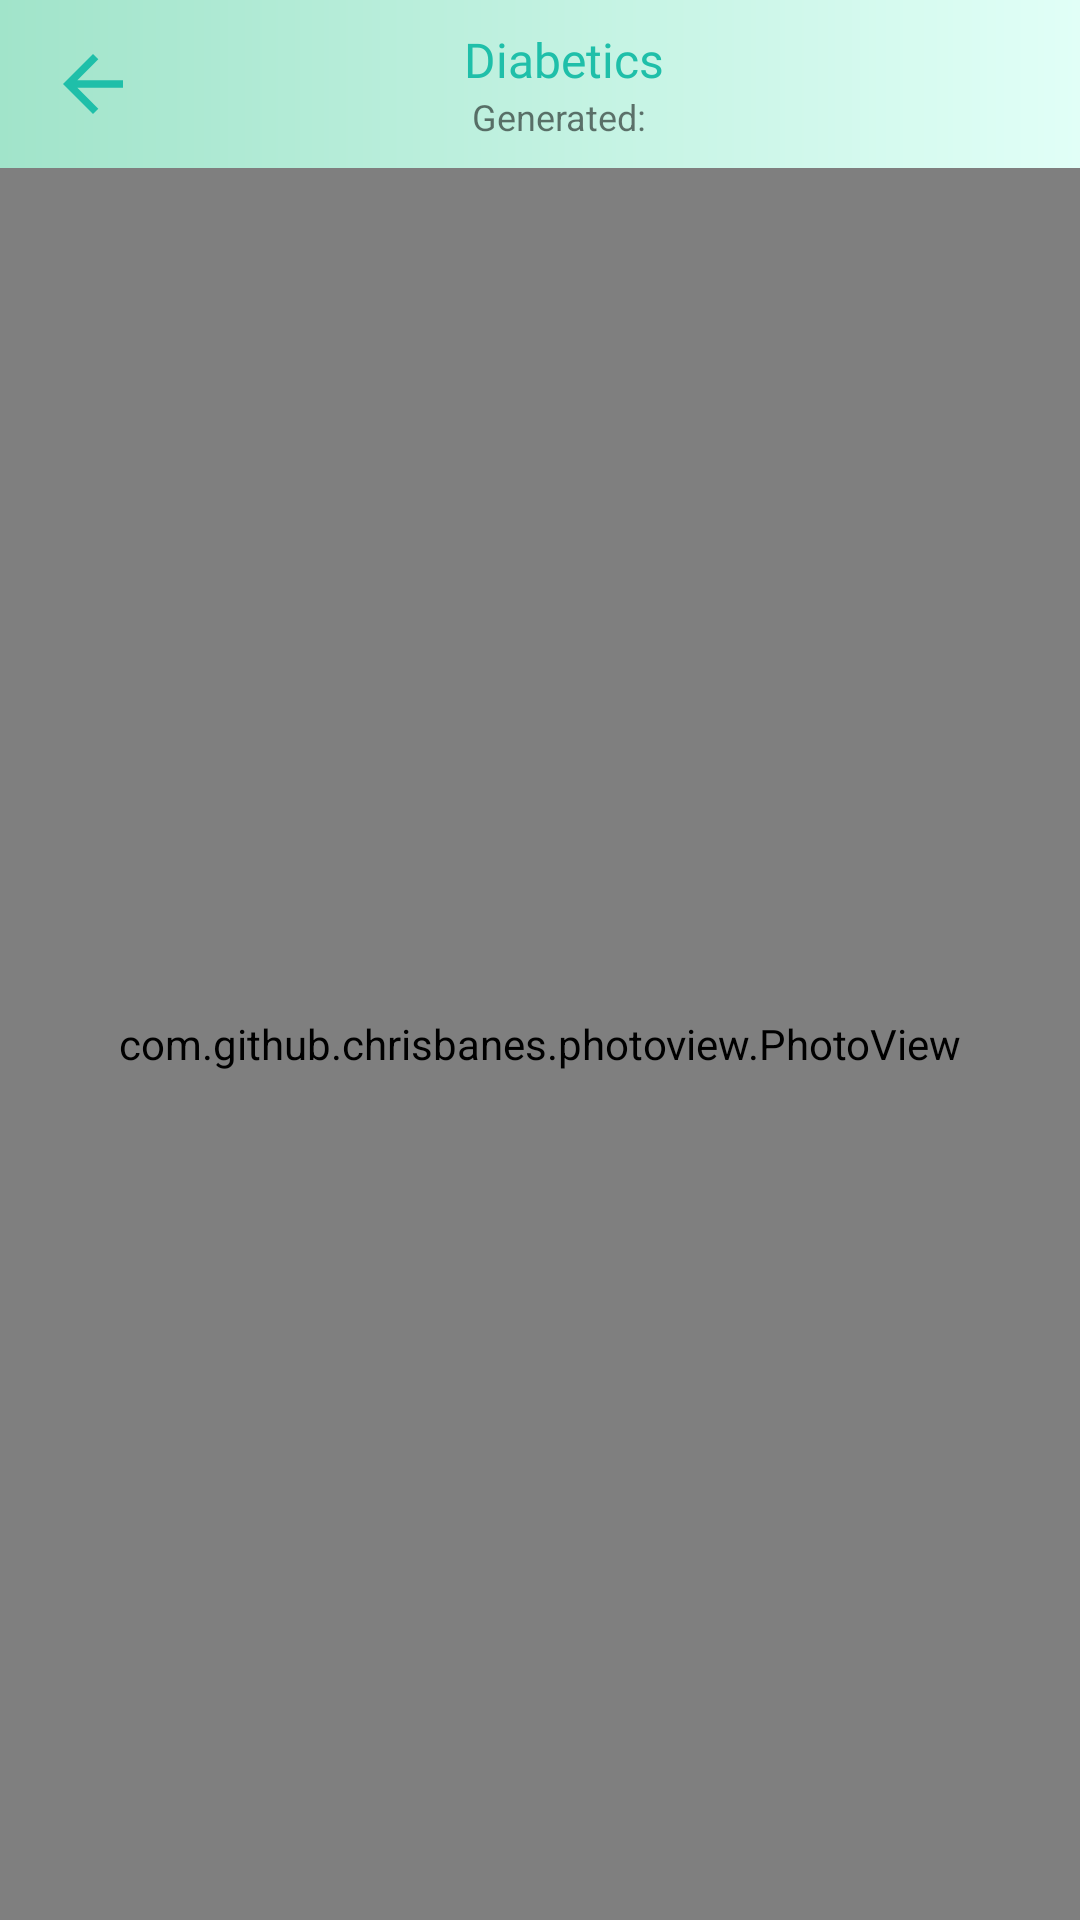

Point at icon controls on the screen. Image size 1080px×1920px, points as (x=x, y=y).
back arrow: (x=93, y=84)
